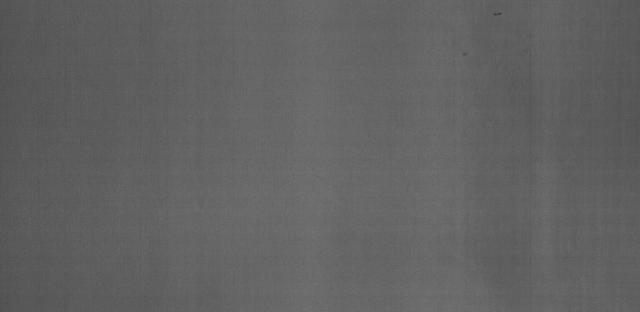inclusion: (452, 39, 474, 64), (488, 0, 509, 22)
